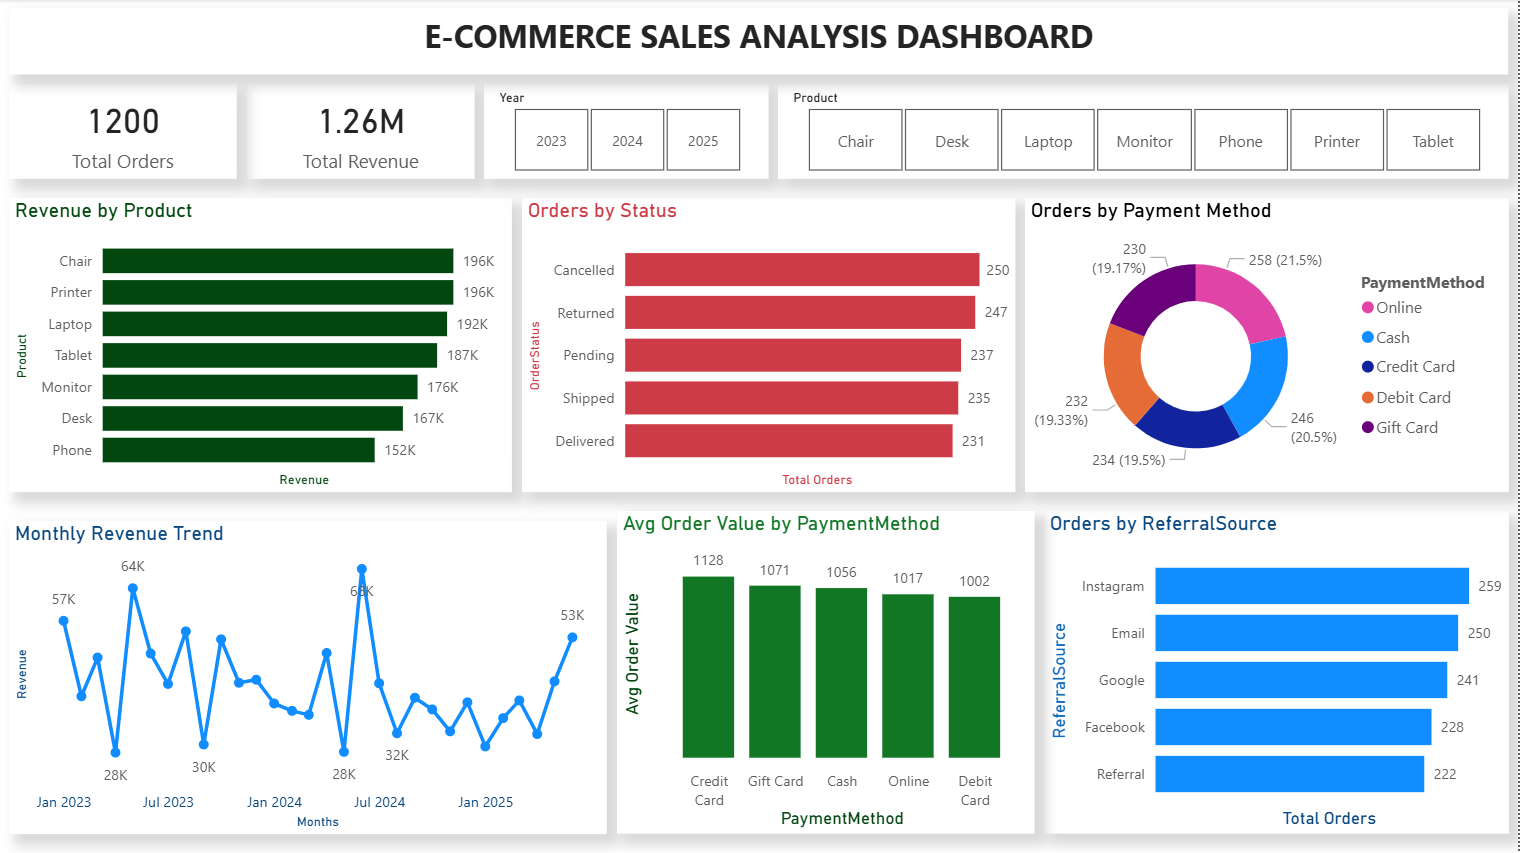

This screenshot's page, from the dashboard's own definition file:
{"tool":"powerbi","page":{"name":"E-commerce Dashbpard","canvas":[1280,720],"ordinal":0},"visuals":[{"type":"card","fields":{"Values":["Sheet1.Total Revenue"]},"box":[208,72,192,80],"z":0},{"type":"card","fields":{"Values":["Sheet1.Total Orders"]},"box":[8,72,192,80],"z":1000},{"type":"clusteredBarChart","title":"Revenue by Product","fields":{"Category":["Sheet1.Product"],"Y":["Sheet1.Total Revenue"]},"box":[8,168,424,248],"z":2000},{"type":"clusteredBarChart","title":"Orders by Status","fields":{"Category":["Sheet1.OrderStatus"],"Y":["Sheet1.Total Orders"]},"box":[440,168,416,248],"z":3000},{"type":"clusteredBarChart","title":"Orders by ReferralSource","fields":{"Category":["Sheet1.ReferralSource"],"Y":["Sheet1.Total Orders"]},"box":[880,432,392,272],"z":4000},{"type":"lineChart","title":"Monthly Revenue Trend","fields":{"Y":["Sheet1.Total Revenue"],"Category":["Sheet1.Date.Variation.Date Hierarchy.Year","Sheet1.Date.Variation.Date Hierarchy.Month"]},"box":[8,440,504,264],"z":5000},{"type":"donutChart","title":"Orders by Payment Method","fields":{"Category":["Sheet1.PaymentMethod"],"Y":["Sheet1.Total Orders"]},"box":[864,168,408,248],"z":6000},{"type":"clusteredColumnChart","fields":{"Category":["Sheet1.PaymentMethod"],"Y":["Sheet1.Avg Order Value"]},"box":[520,432,352,272],"z":7000},{"type":"slicer","title":"F","fields":{"Values":["Sheet1.Date.Variation.Date Hierarchy.Year"]},"box":[408,72,240,80],"z":8000},{"type":"slicer","fields":{"Values":["Sheet1.Product"]},"box":[656,72,616,80],"z":9000},{"type":"textbox","box":[8,8,1264,56],"z":10000}]}

Visuals, with their boxes in screenshot pixels (x1, y1, x2, y2), scaled from the page's 1280x720 canvas onto the 1520x853 screenshot:
card - Sheet1.Total Revenue: x1=247 y1=85 x2=475 y2=180
card - Sheet1.Total Orders: x1=10 y1=85 x2=238 y2=180
"Revenue by Product" clusteredBarChart: x1=10 y1=199 x2=513 y2=493
"Orders by Status" clusteredBarChart: x1=522 y1=199 x2=1016 y2=493
"Orders by ReferralSource" clusteredBarChart: x1=1045 y1=512 x2=1510 y2=834
"Monthly Revenue Trend" lineChart: x1=10 y1=521 x2=608 y2=834
"Orders by Payment Method" donutChart: x1=1026 y1=199 x2=1510 y2=493
clusteredColumnChart - Sheet1.PaymentMethod x Sheet1.Avg Order Value: x1=618 y1=512 x2=1036 y2=834
"F" slicer: x1=484 y1=85 x2=770 y2=180
slicer - Sheet1.Product: x1=779 y1=85 x2=1510 y2=180
textbox: x1=10 y1=9 x2=1510 y2=76
